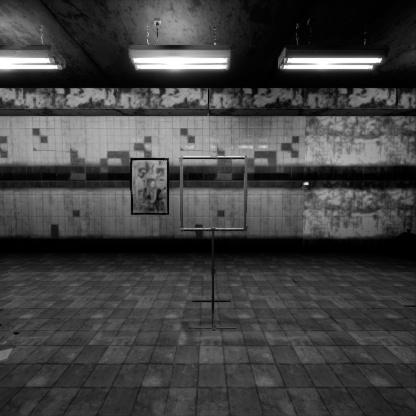gate: (180, 184, 253, 259)
